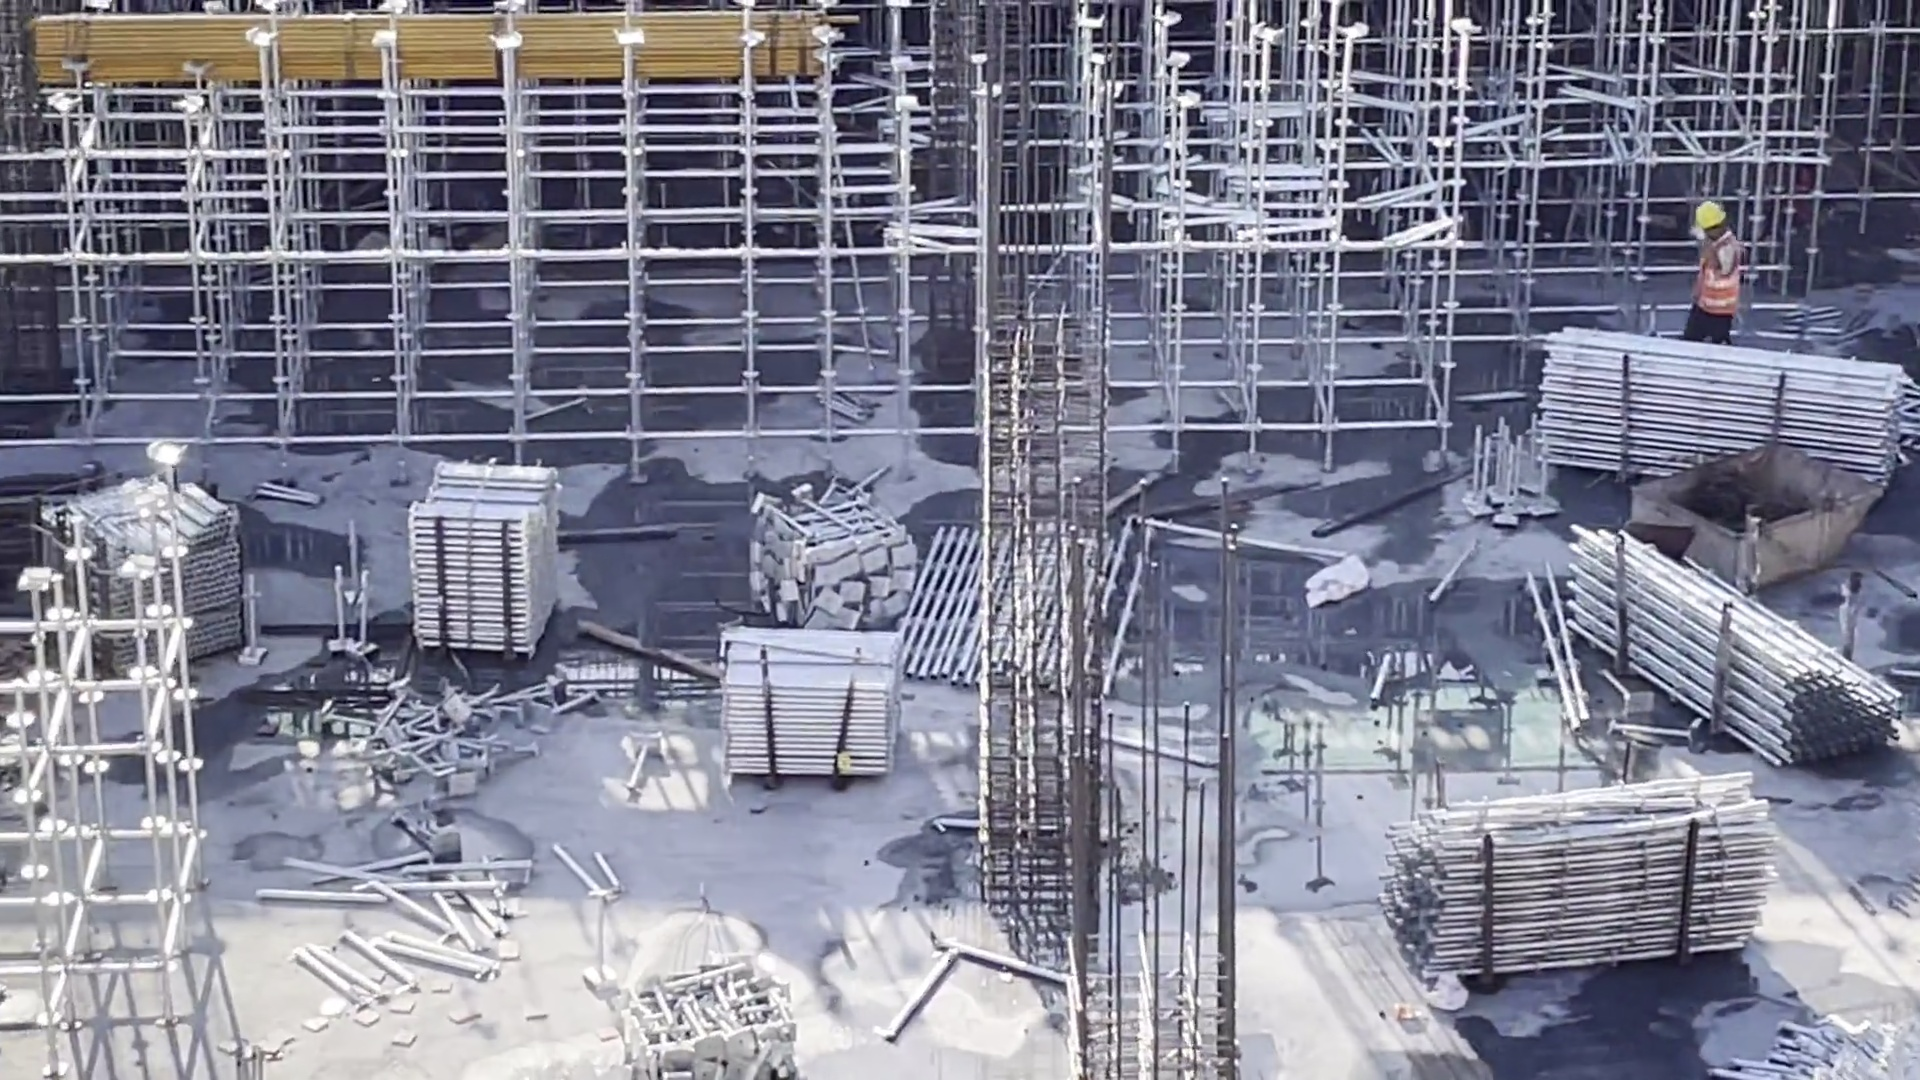helmet: (1697, 201, 1729, 228)
hopper: (1634, 435, 1882, 600)
person: (1686, 197, 1747, 356)
scaffold: (1543, 312, 1911, 524), (1552, 521, 1857, 769), (1376, 794, 1757, 978), (34, 473, 248, 673), (415, 447, 591, 675), (607, 940, 824, 1080), (715, 618, 901, 780), (739, 479, 929, 631), (353, 688, 562, 804), (1753, 998, 1920, 1070)
vest: (1703, 250, 1738, 323)
